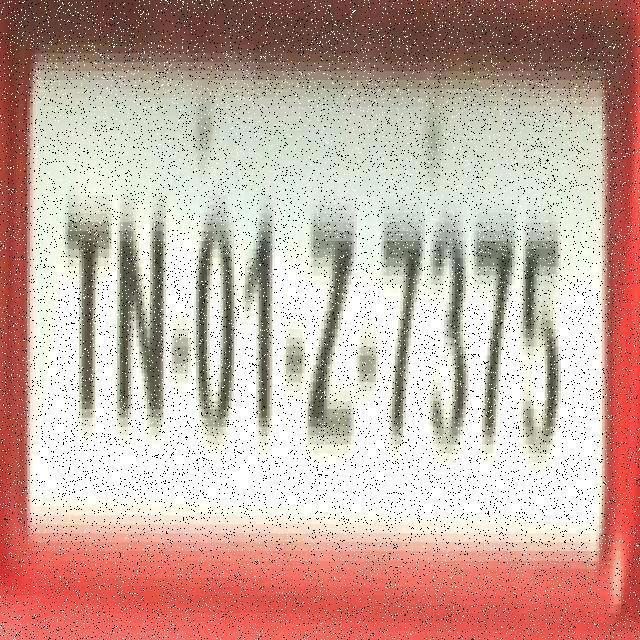License Plate: (18, 19, 622, 608)
